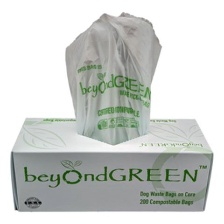book: (6, 110, 218, 217)
tissue: (60, 6, 166, 148)
